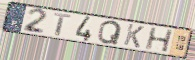2: (24, 8, 49, 34)
4: (74, 15, 93, 43)
H: (144, 26, 175, 54)
K: (122, 22, 146, 49)
Q: (96, 20, 123, 45)
T: (53, 12, 73, 37)
